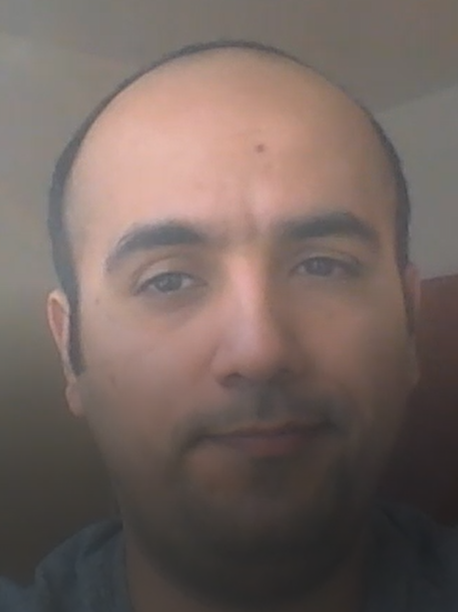Not Sleeping: (100, 207, 389, 323)
